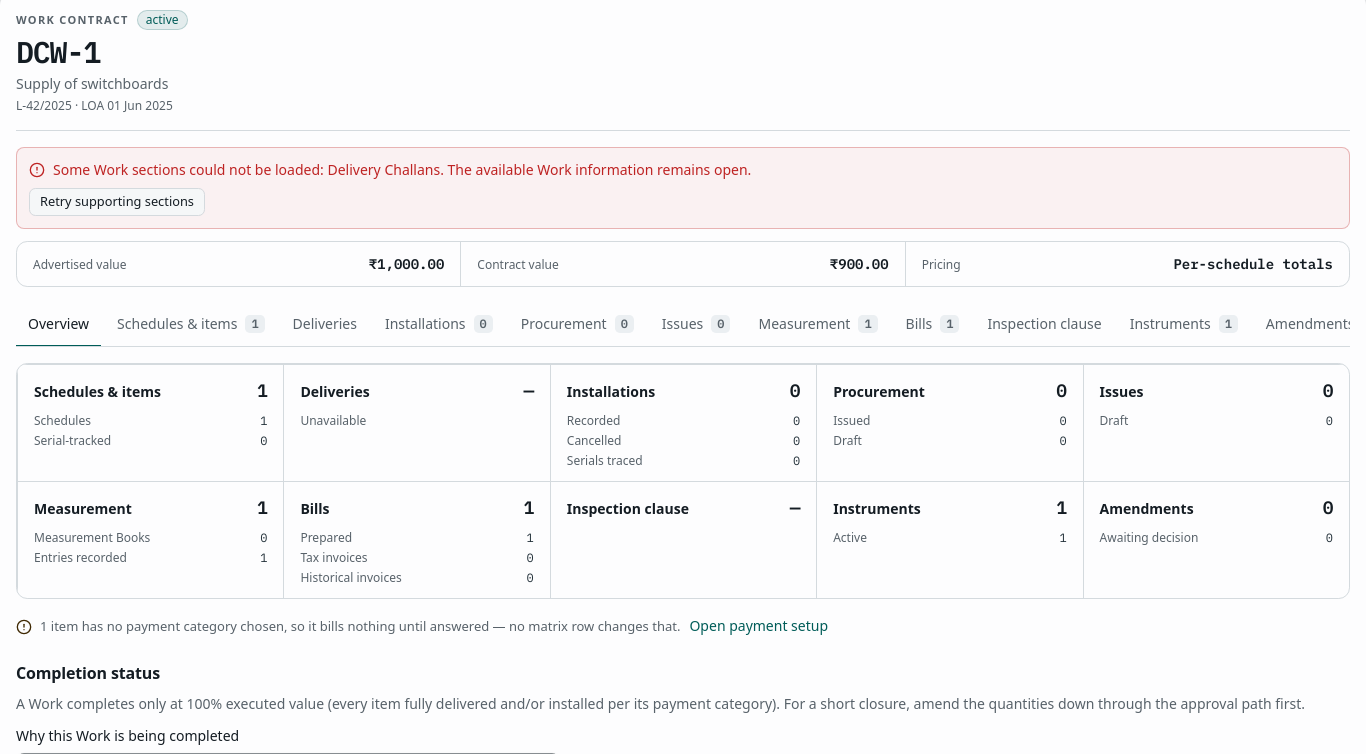
Scenario: WorkDetail retention › does not turn an unavailable Challan register into an empty, creatable list
Expected: the heading "DCW-1 Supply of switchboards" is shown, [16,34,188,94]
Click the button "Deliveries". click: point(325, 325)
box: [281,303,369,347]
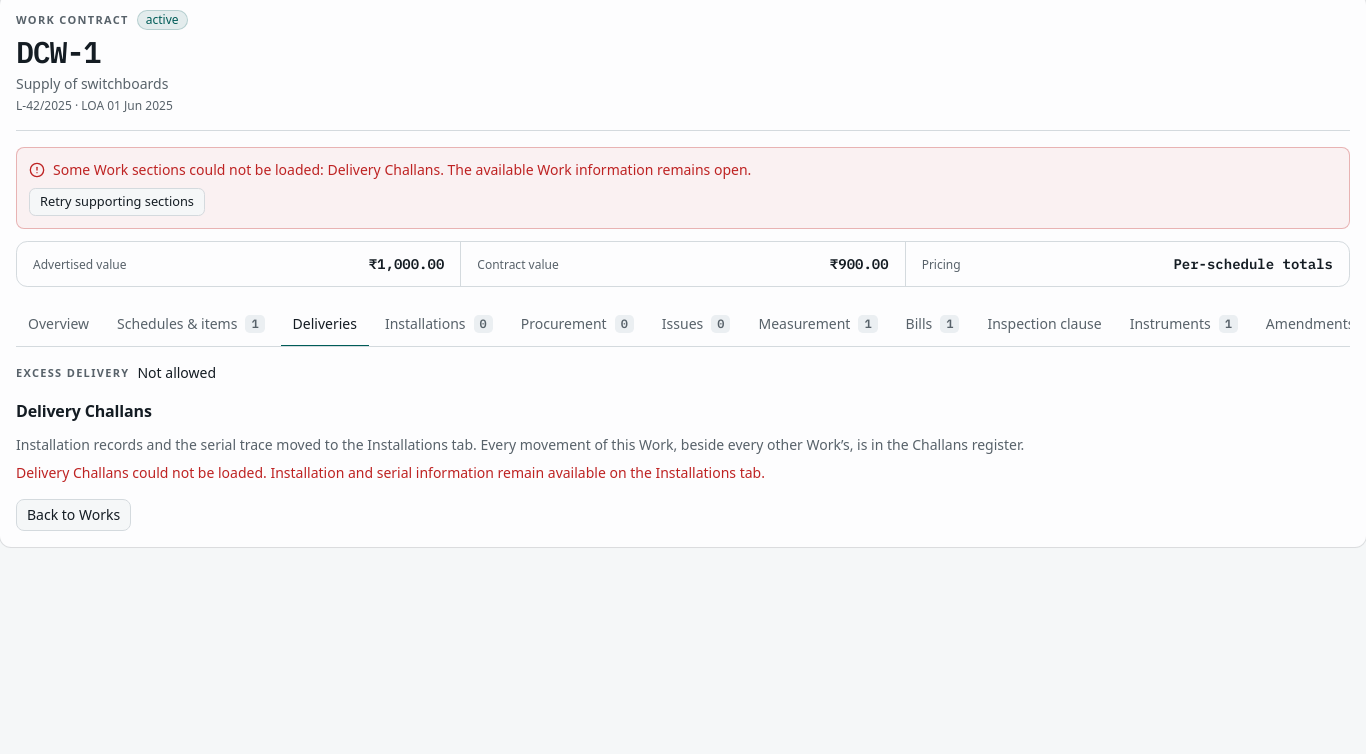
Result: the text "Delivery Challans could not be loaded" is shown at [16,463,765,482]
Click the button "Installations 0". click: point(439, 325)
box: [373,303,505,347]
(page scrolled)
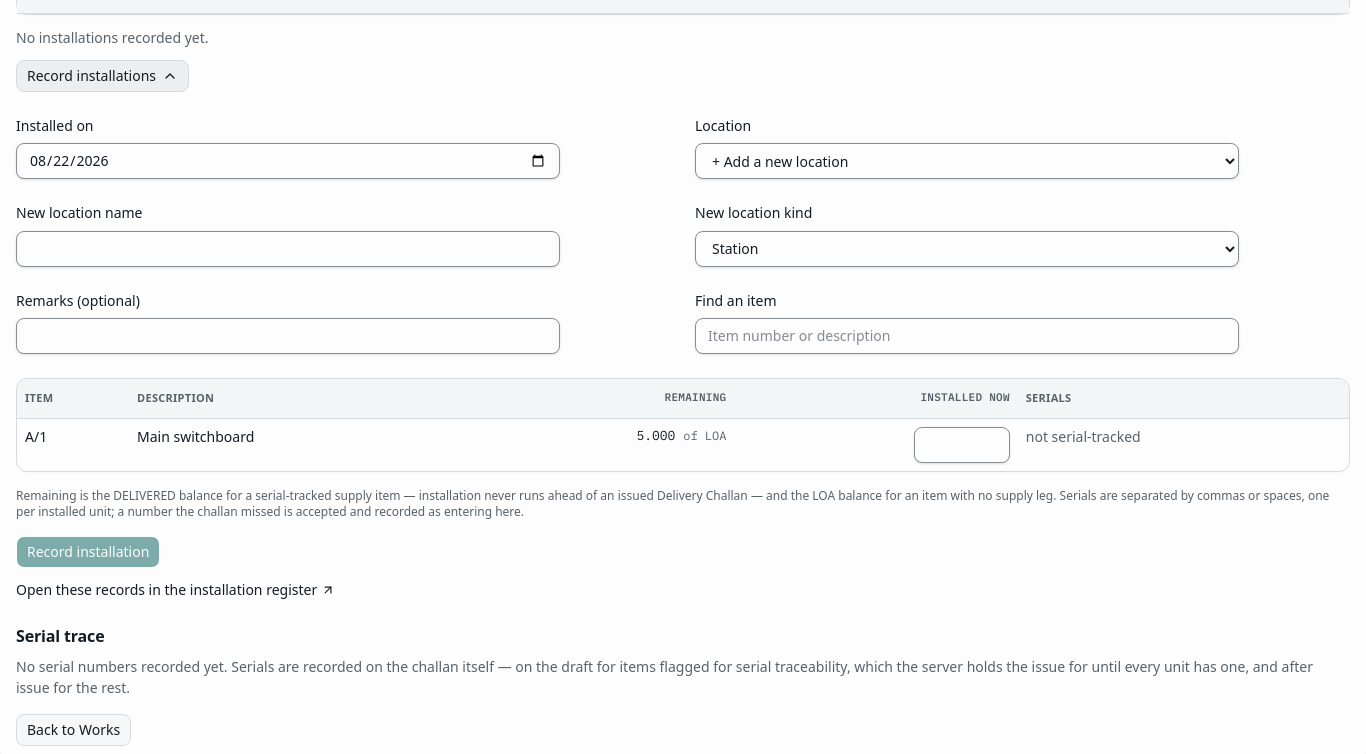
Result: the text "No installations recorded yet." is shown at [16,28,208,47]
Result: the heading "Serial trace" is shown at [16,625,104,647]
